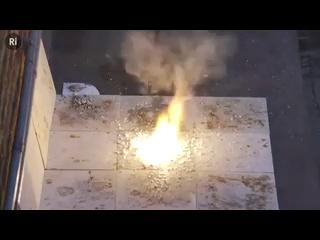Fire: (132, 78, 195, 162)
